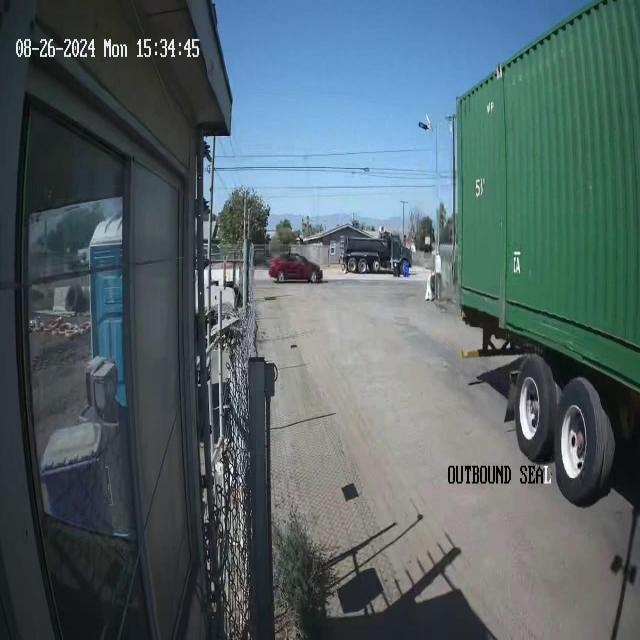TRUCK_IN: (453, 1, 639, 507)
